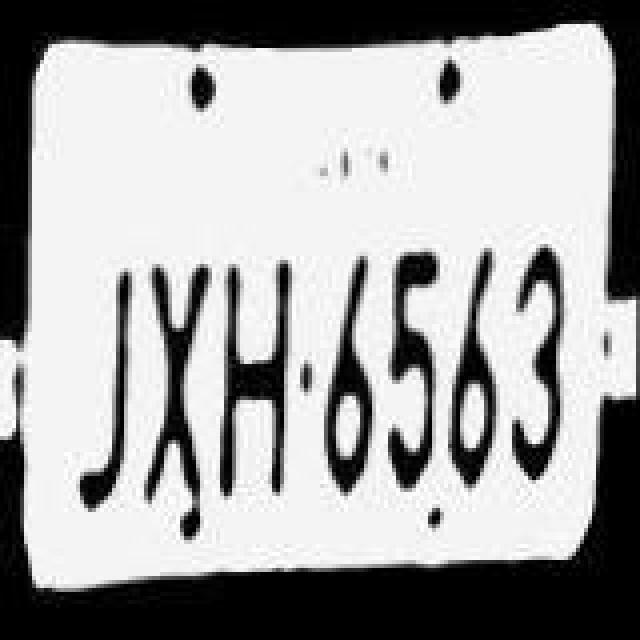3: (512, 238, 572, 494)
5: (382, 246, 446, 498)
6: (320, 242, 380, 502), (450, 246, 506, 494)
H: (216, 246, 292, 502)
J: (72, 220, 132, 512)
X: (144, 236, 212, 496)
